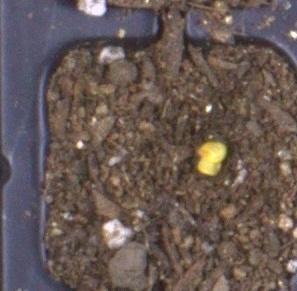chilli seed: (197, 141, 228, 161), (197, 161, 222, 176)
